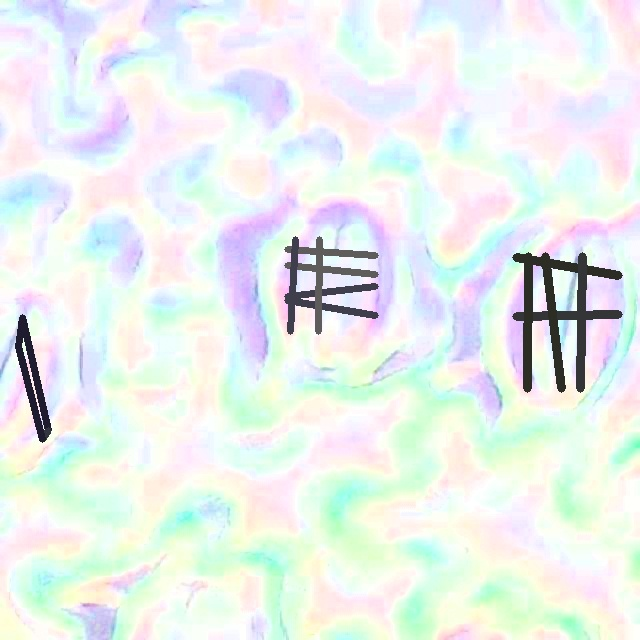close: (284, 236, 378, 334)
open: (512, 252, 622, 391), (15, 314, 51, 442)
